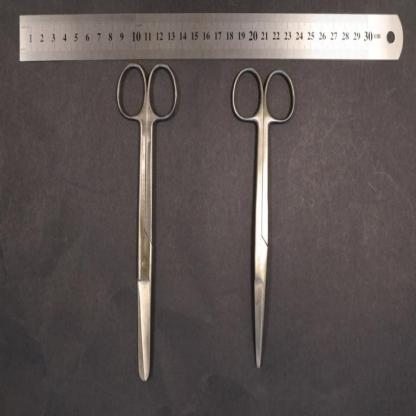Curved Mayo Scissors: (228, 64, 298, 369)
Dressing Scissors: (116, 61, 179, 383)
